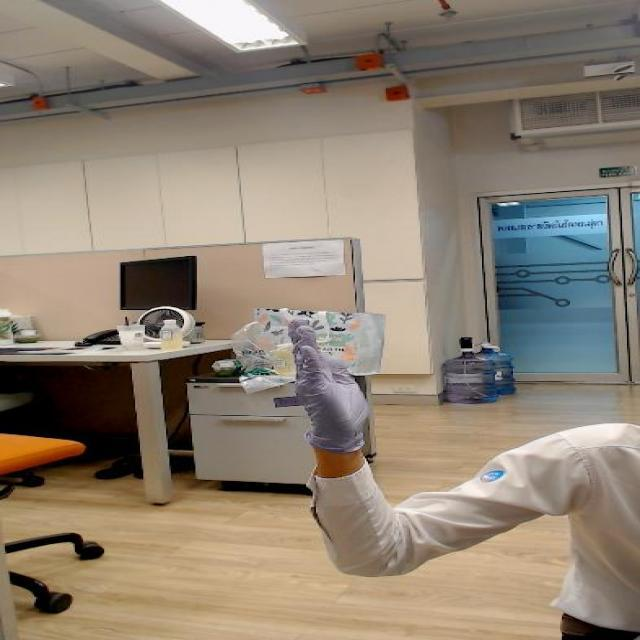with_gloves: (246, 315, 425, 437)
